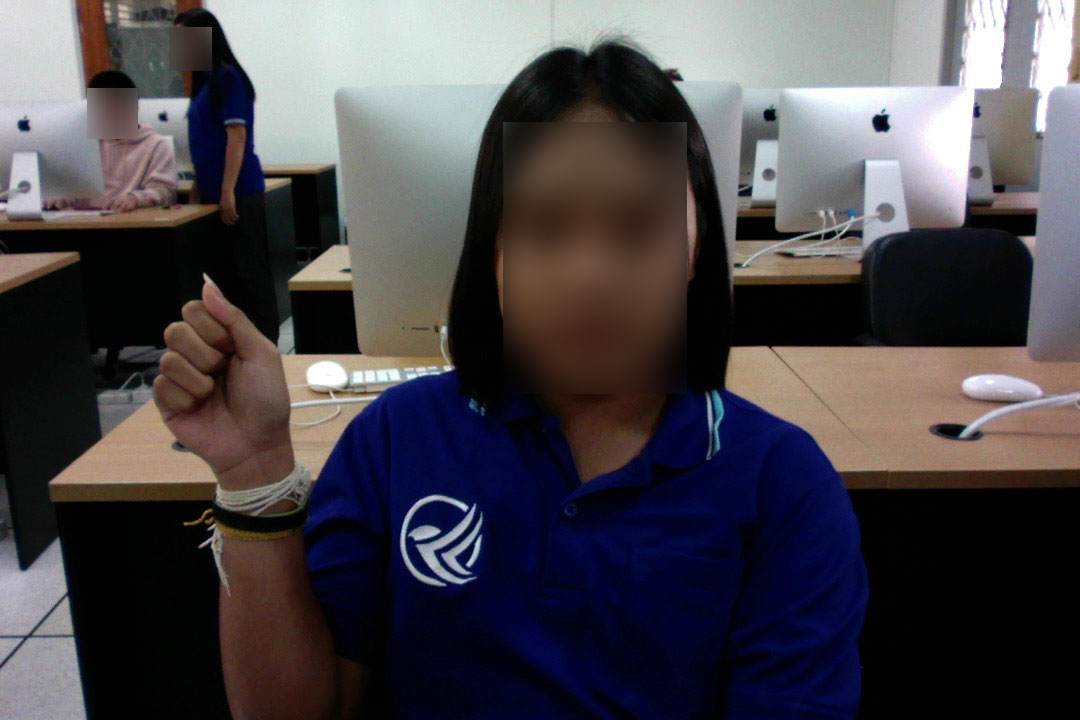or: (145, 264, 301, 491)
